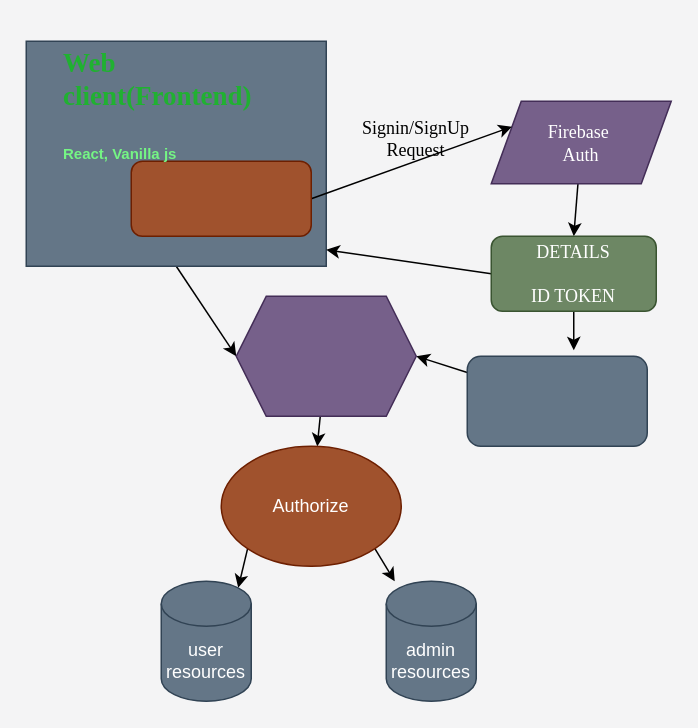
Image size: 698x728. Some labels were removed from this diagram. The shapes that lost their labels are listed below. From the top down, each one's centre as x and y in pixels, then its label:
the point at 220,198: Singup/Signin
the point at 325,355: Go Server (Verify token)
the point at 556,400: Postman/Insomnia client
